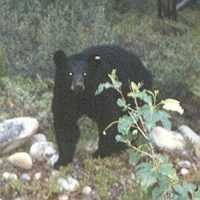bear: (36, 36, 164, 164)
